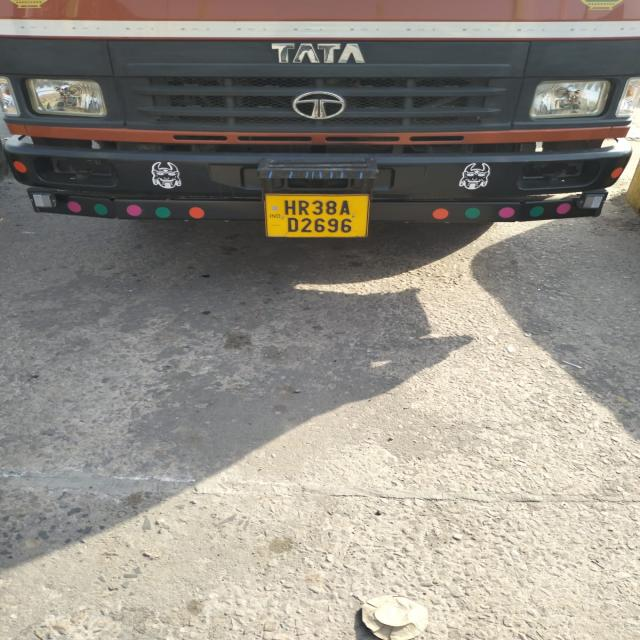License-plate: (270, 191, 372, 242)
